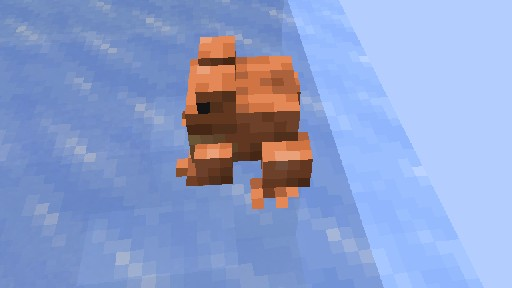frog: (175, 35, 313, 209)
